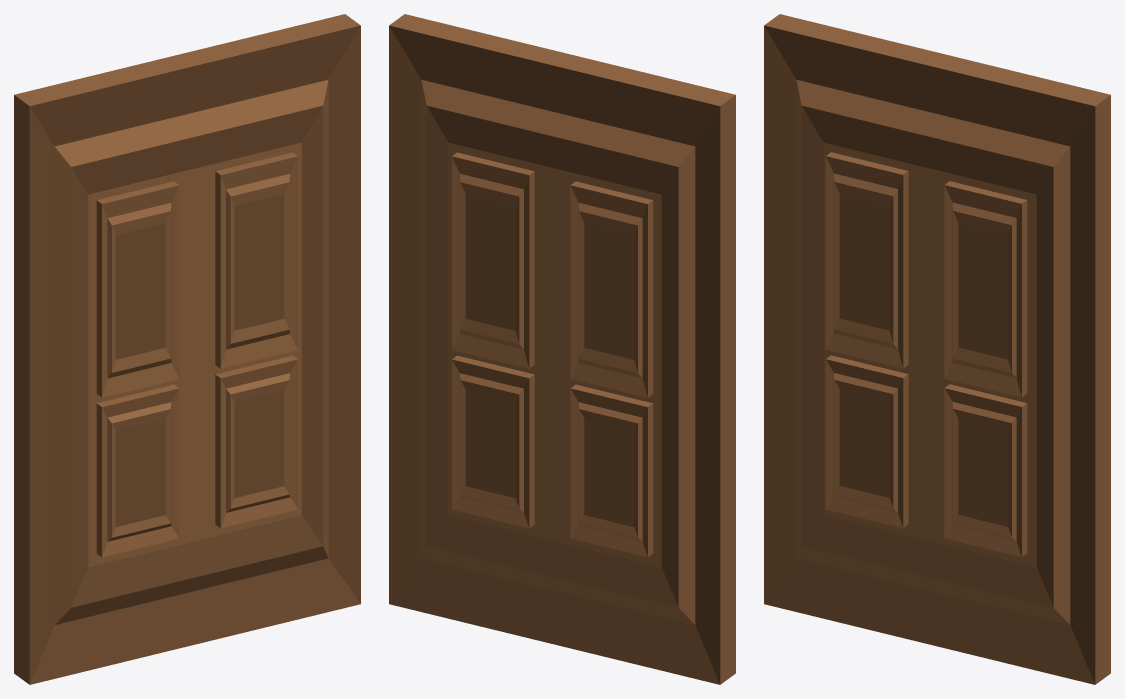
The model's file is DOOR1nohandle.fbx.
3 views of the same model, side by side, from view 1: azimuth 30°, elevation 25°; view 2: azimuth 150°, elevation 25°; view 3: azimuth 330°, elevation 25° (orthographic).
Visible parts, largest first — view 1: DOOR; view 2: DOOR; view 3: DOOR.
Part boxes in pixels (x1,y1,x2,y2): DOOR: (14,14,360,684); DOOR: (389,14,735,684); DOOR: (764,14,1110,684).
Size of the model in its own units: 3.05 by 5.1 by 0.4411.
